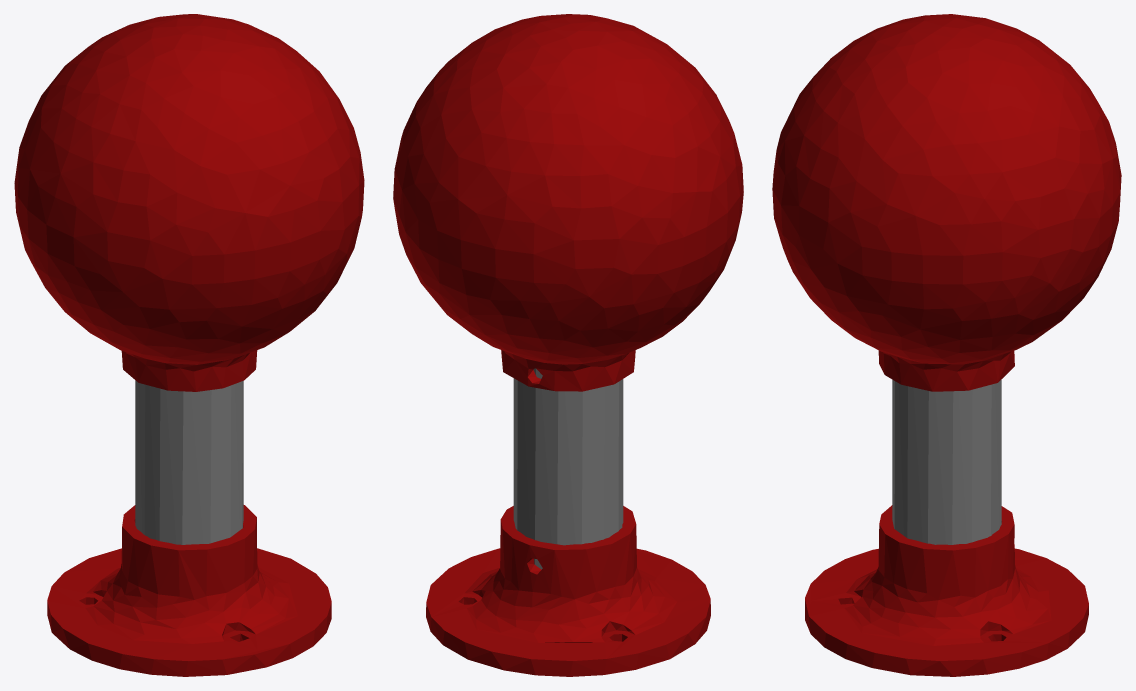
Rendered from end_effector_ball.dae.
The picture shows the model from 3 angles, left to right: view 1: azimuth 30°, elevation 25°; view 2: azimuth 150°, elevation 25°; view 3: azimuth 270°, elevation 25°; orthographic projection.
Parts seen in each view (by area): view 1: Shape_IndexedFaceSet.002; view 2: Shape_IndexedFaceSet.002; view 3: Shape_IndexedFaceSet.002.
Boxes of the visible parts, <box> form: Shape_IndexedFaceSet.002: <box>14,14,364,676</box>; Shape_IndexedFaceSet.002: <box>393,14,743,676</box>; Shape_IndexedFaceSet.002: <box>772,14,1121,676</box>.
Bounding box in the file's own units: 0.0799 × 0.0799 × 0.148.
